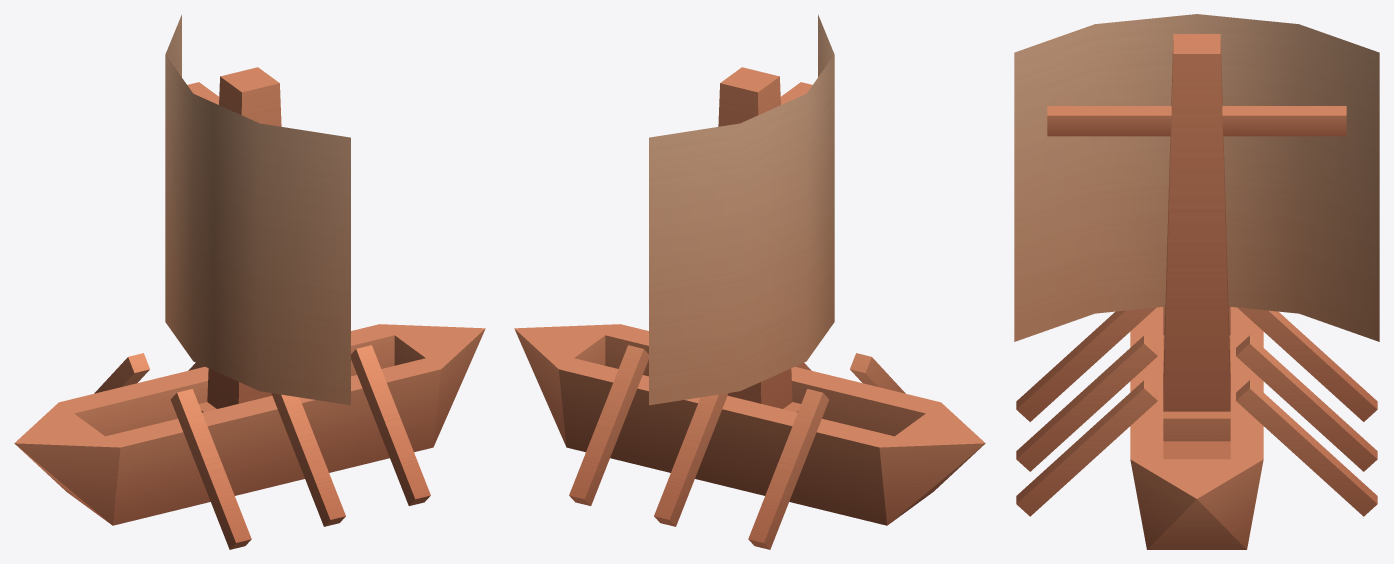
Rendered from ship.fbx.
The picture shows the model from 3 angles, left to right: view 1: azimuth 30°, elevation 25°; view 2: azimuth 150°, elevation 25°; view 3: azimuth 270°, elevation 25°; orthographic projection. The views are drawn at different scales.
Visible parts, largest first — view 1: unit_ship_large; view 2: unit_ship_large; view 3: unit_ship_large.
Part boxes in pixels (x1,y1,x2,y2): unit_ship_large: (14,14,485,549); unit_ship_large: (514,14,985,549); unit_ship_large: (1014,14,1379,549).
Bounding box in the file's own units: 64.5 × 50.97 × 40.
